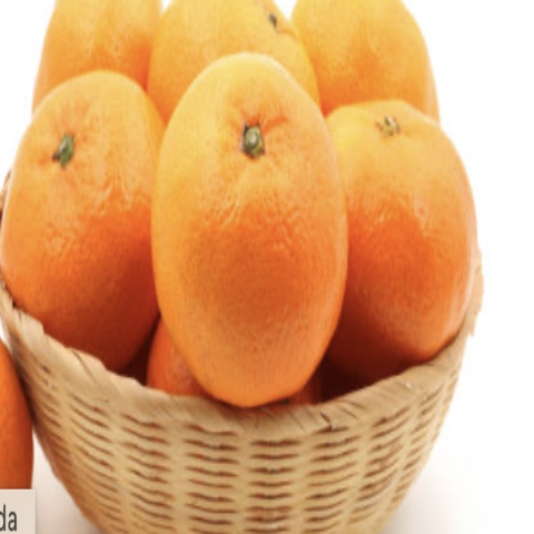orange: (145, 41, 360, 405), (292, 77, 518, 373), (3, 44, 175, 407)
